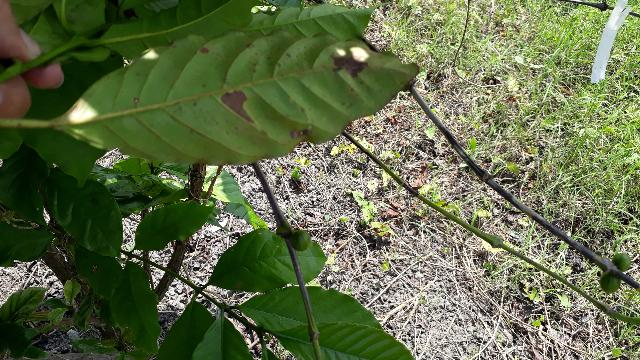red_spider_mite: (221, 191, 588, 332)
